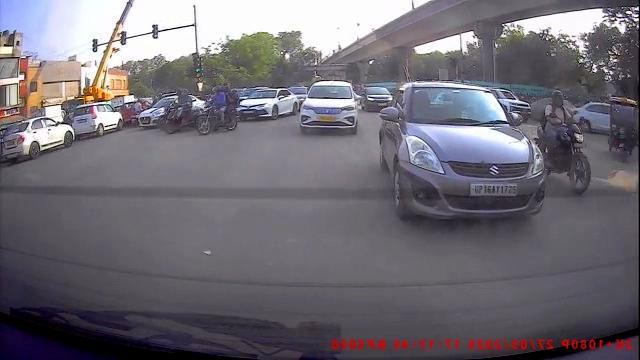motorcycle_with_helmet: (537, 87, 594, 194)
passenger_with_helmet: (197, 80, 240, 135)
